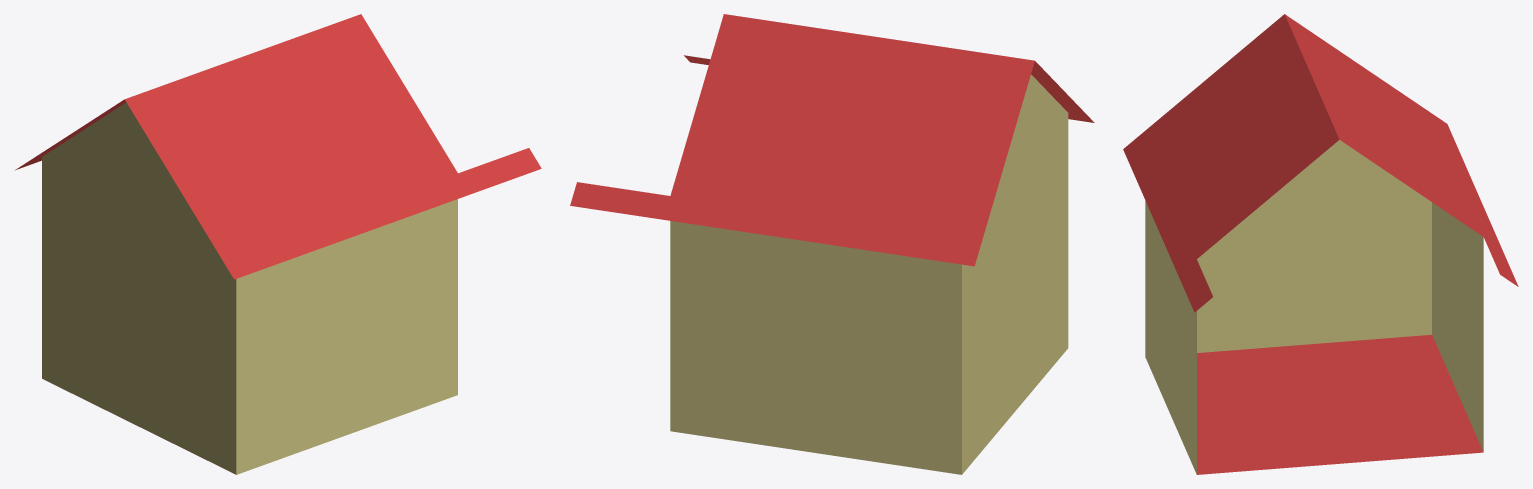
The picture shows the model from 3 angles, left to right: view 1: azimuth 30°, elevation 25°; view 2: azimuth 150°, elevation 25°; view 3: azimuth 270°, elevation 25°; orthographic projection. The views are drawn at different scales.
Size of the model in its own units: 11.69 by 10.35 by 9.35.
